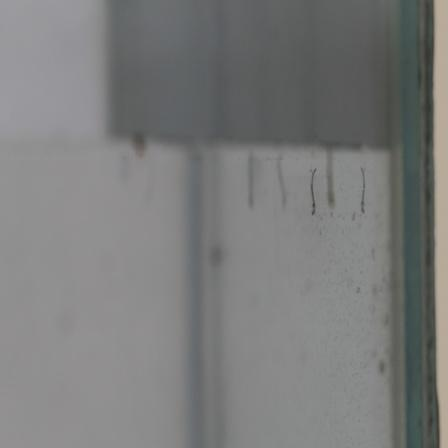Jentik-Nyamuk: (307, 164, 322, 219)
